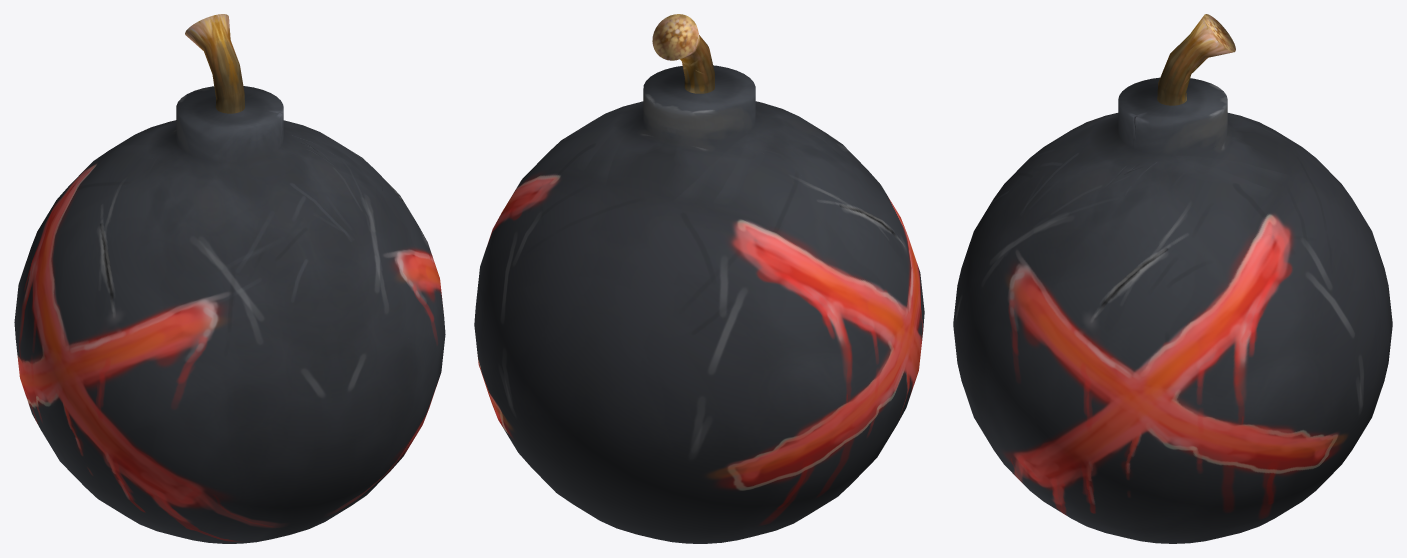
File: Bomb.fbx
3 views of the same model, side by side, from view 1: azimuth 30°, elevation 25°; view 2: azimuth 150°, elevation 25°; view 3: azimuth 270°, elevation 25° (orthographic). The views are drawn at different scales.
Parts seen in each view (by area): view 1: Sphere.006; view 2: Sphere.006; view 3: Sphere.006.
Part boxes in pixels (x1,y1,x2,y2): Sphere.006: (14, 14, 445, 543); Sphere.006: (474, 14, 924, 543); Sphere.006: (953, 14, 1392, 543).
Bounding box in the file's own units: 200 × 254 × 200.
